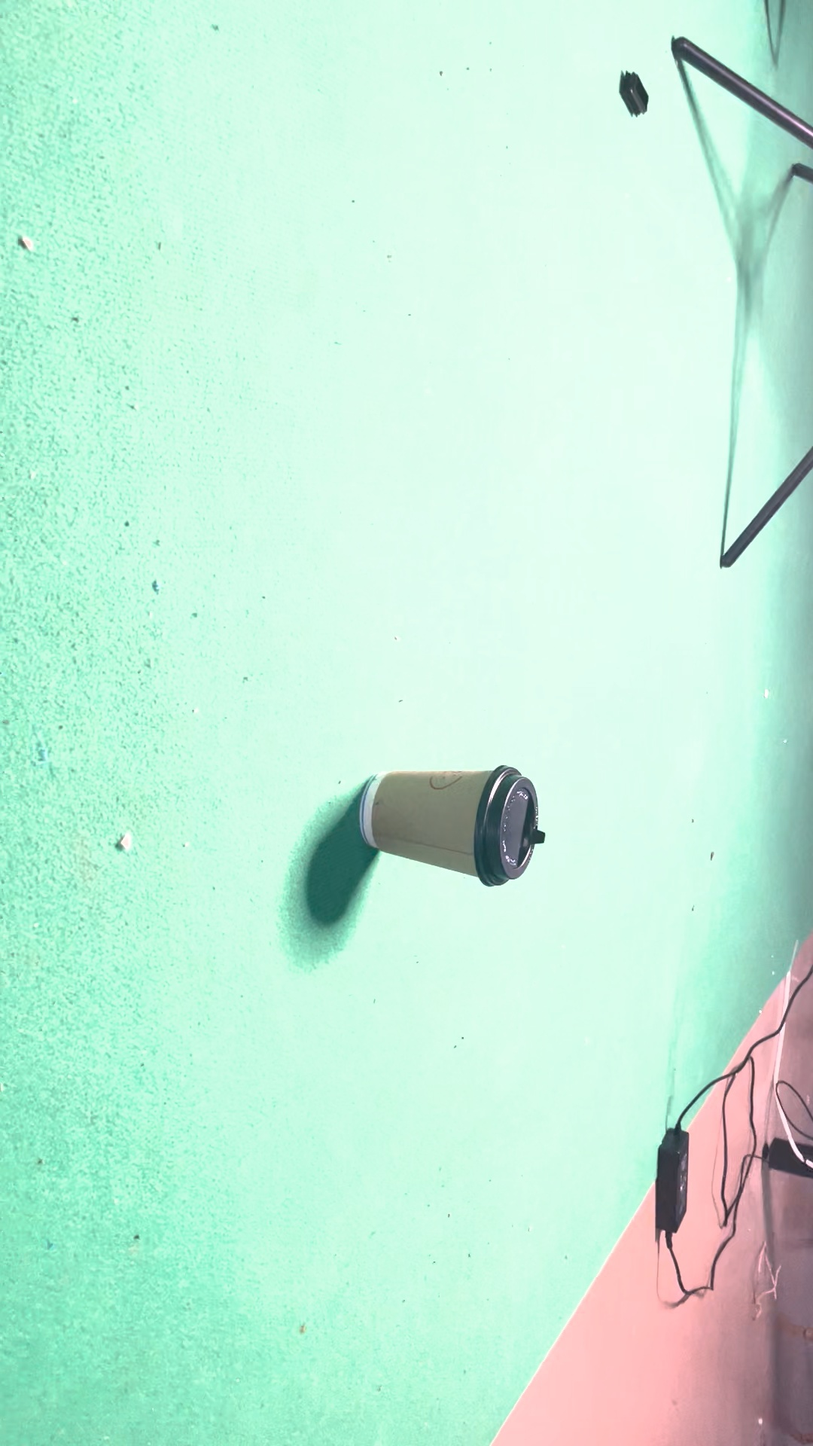cup: (394, 757, 467, 1096)
